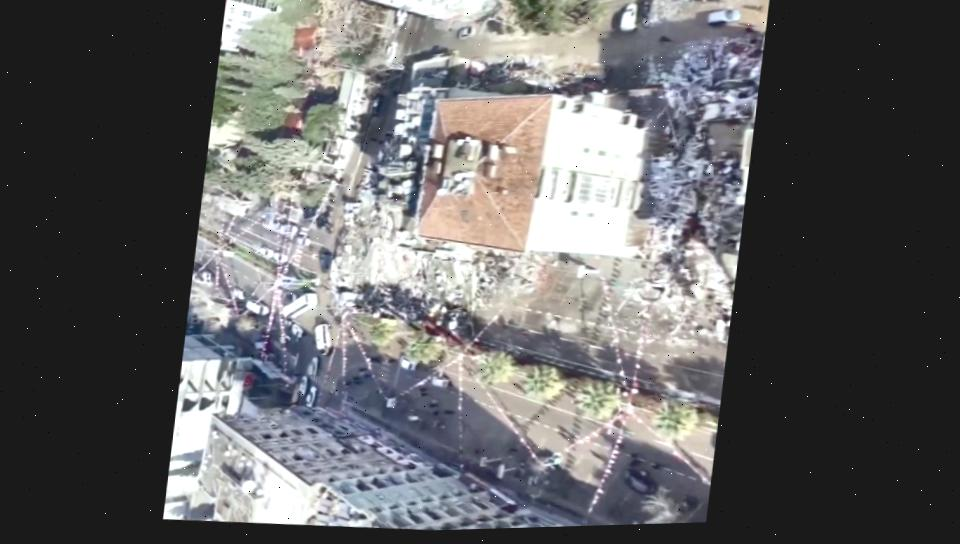kapali: (302, 225, 514, 342), (312, 87, 411, 242)
